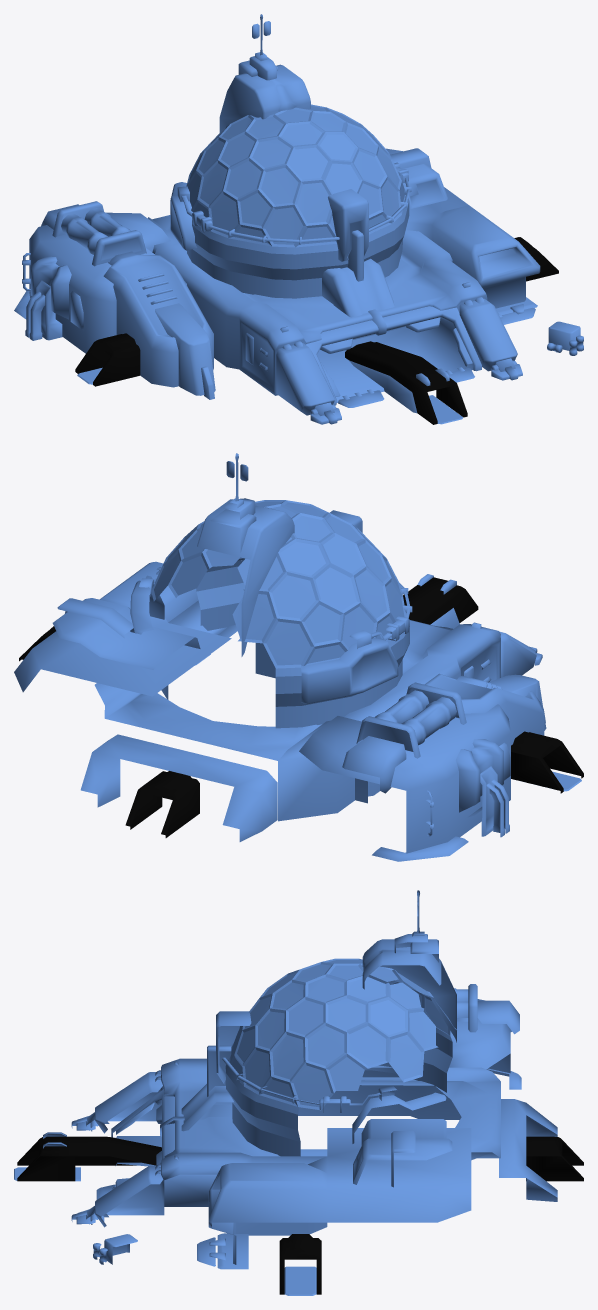
The model's file is ctm_zhujidi_low_mod.fbx.
The picture shows the model from 3 angles, top to bottom: view 1: azimuth 30°, elevation 25°; view 2: azimuth 150°, elevation 25°; view 3: azimuth 270°, elevation 25°; orthographic projection. The views are drawn at different scales.
Visible parts, largest first — view 1: ctm_zhujidi_low_mod; view 2: ctm_zhujidi_low_mod; view 3: ctm_zhujidi_low_mod.
Part boxes in pixels (x1,y1,x2,y2): ctm_zhujidi_low_mod: (14, 14, 583, 424); ctm_zhujidi_low_mod: (14, 453, 583, 861); ctm_zhujidi_low_mod: (14, 890, 583, 1295).
Bounding box in the file's own units: 2020 × 1108 × 2007.
